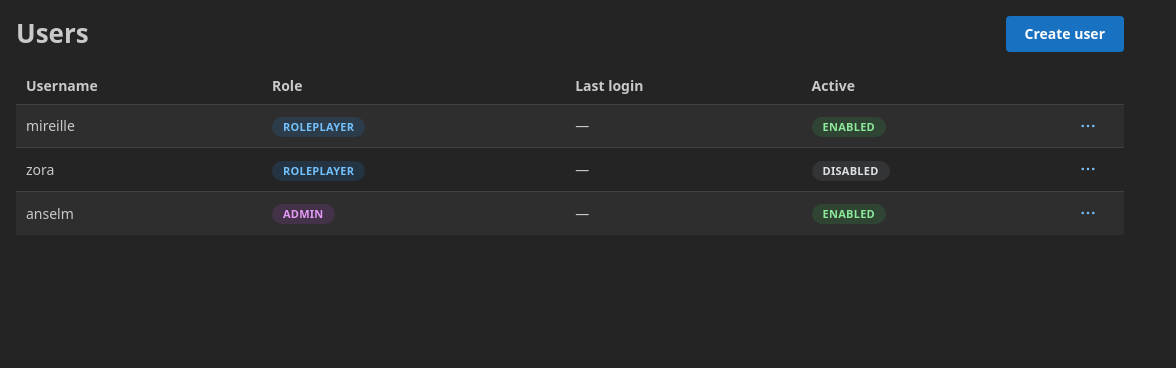
Test: the row menu after this step › an enabled administrator account's menu holds exactly Set Password, Change Role and one of Disable / Re-enable — DoD-12
Click the submit button at (1088,213), box [1074,199,1102,227]
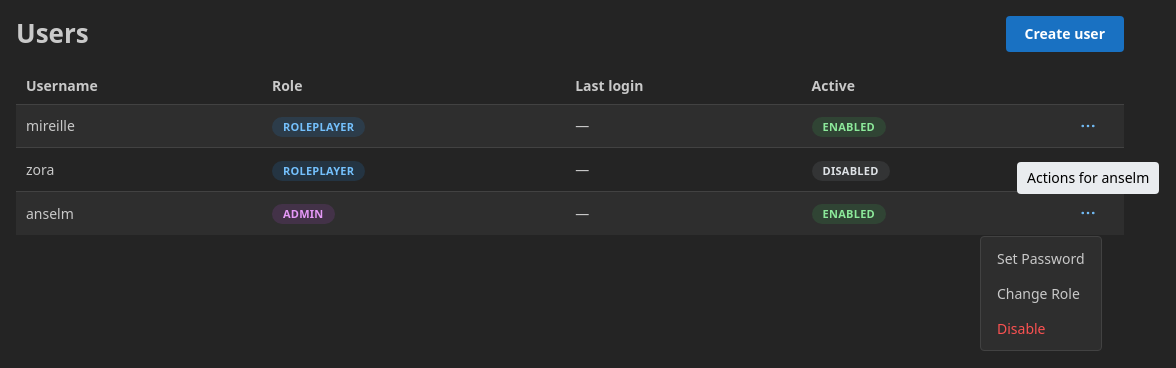
Expected: the number of menu items is 3, [985,241,1097,276]; [985,276,1097,311]; [985,311,1097,346]
